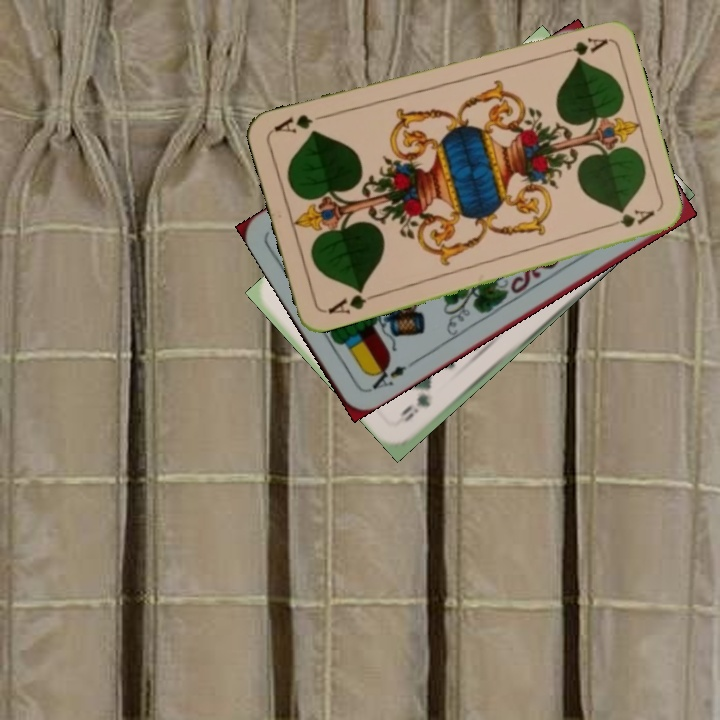EA: (364, 360, 409, 395)
G9: (398, 390, 433, 425)
GA: (324, 284, 380, 317), (550, 33, 609, 59)
